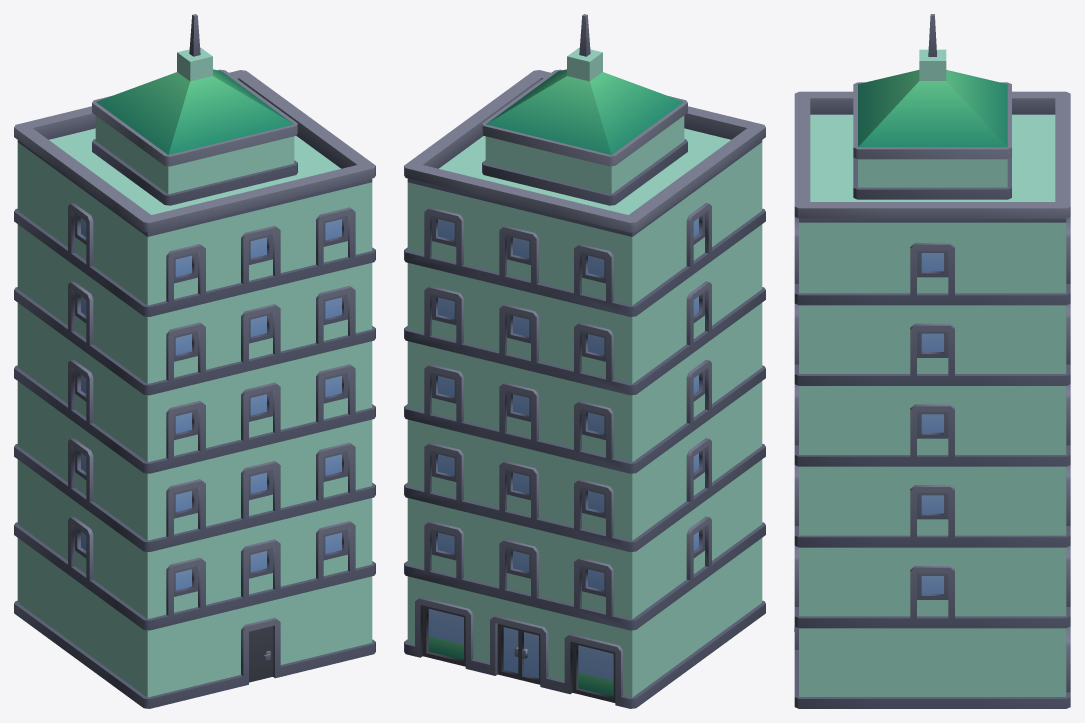
File: skyscraperE1.glb
3 views of the same model, side by side, from view 1: azimuth 30°, elevation 25°; view 2: azimuth 150°, elevation 25°; view 3: azimuth 270°, elevation 25° (orthographic). The views are drawn at different scales.
Visible parts, largest first — view 1: skyscraperE1; view 2: skyscraperE1; view 3: skyscraperE1.
Boxes of the visible parts, x1,y1,x2,y2 form: skyscraperE1: (14,14,375,708); skyscraperE1: (404,14,765,708); skyscraperE1: (794,14,1070,708).
Size of the model in its own units: 1.24 by 3.15 by 1.24.
Materials: 2 (1 with a texture image).
